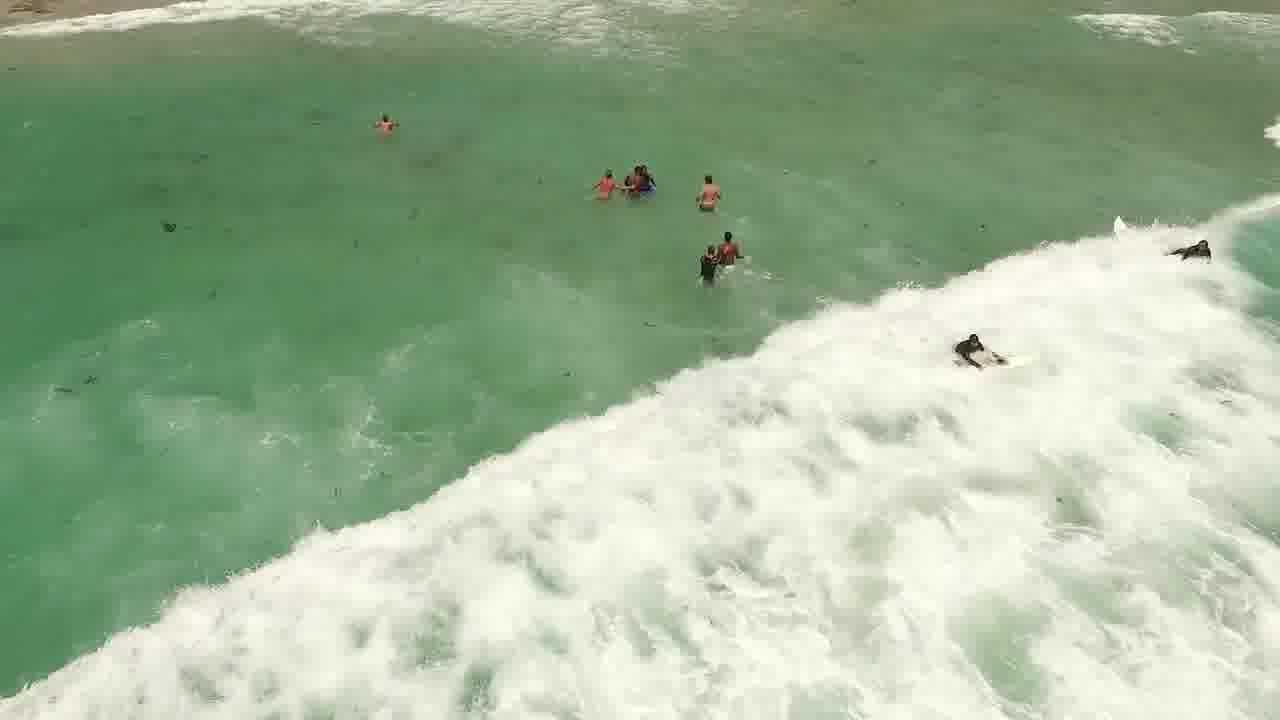swimmer: (364, 108, 416, 144)
